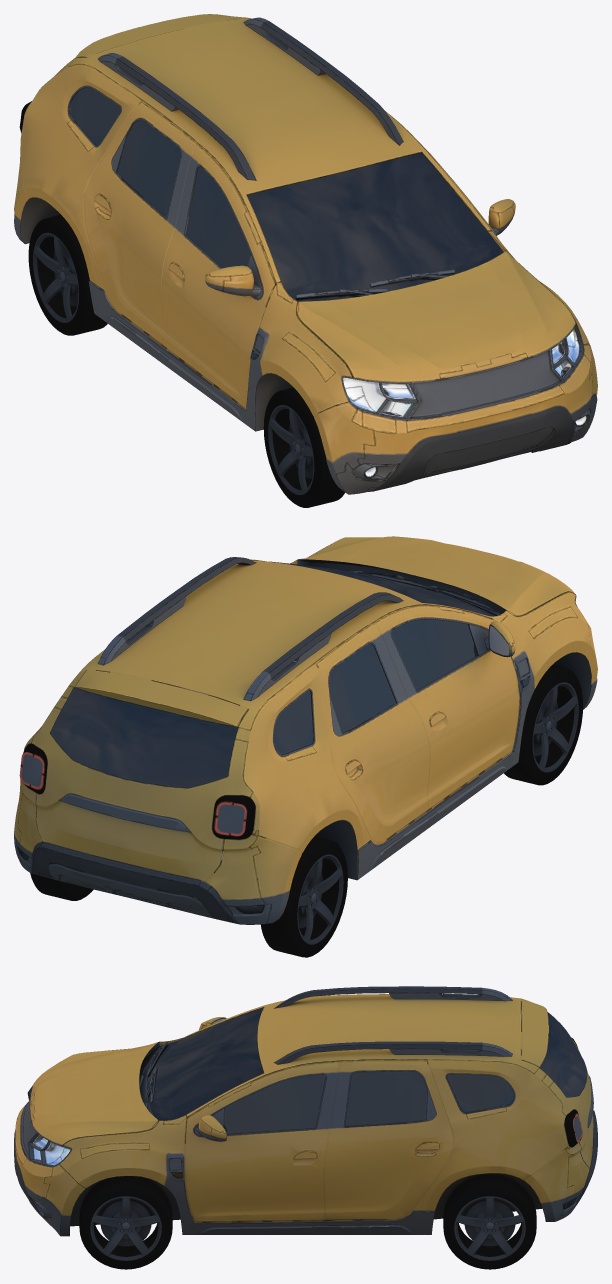
File: car_B_v3_yellow.glb
3 renders of one model, top to bottom at view 1: azimuth 30°, elevation 25°; view 2: azimuth 150°, elevation 25°; view 3: azimuth 270°, elevation 25°, orthographic. The views are drawn at different scales.
Visible parts, largest first — view 1: body, Dacia_Duster_2018_FR_wheel, Dacia_Duster_2018_BR_wheel; view 2: body, Dacia_Duster_2018_BR_wheel, Dacia_Duster_2018_FR_wheel, Dacia_Duster_2018_BL_wheel; view 3: body, Dacia_Duster_2018_BL_wheel, Dacia_Duster_2018_FL_wheel.
Part boxes in pixels (<box>): body: <box>14,14,597,494</box>; Dacia_Duster_2018_FR_wheel: <box>263,387,345,507</box>; Dacia_Duster_2018_BR_wheel: <box>28,214,107,335</box>; body: <box>14,536,597,924</box>; Dacia_Duster_2018_BR_wheel: <box>261,836,347,957</box>; Dacia_Duster_2018_FR_wheel: <box>504,665,582,785</box>; Dacia_Duster_2018_BL_wheel: <box>30,873,93,900</box>; body: <box>14,986,597,1236</box>; Dacia_Duster_2018_BL_wheel: <box>443,1175,536,1269</box>; Dacia_Duster_2018_FL_wheel: <box>79,1176,172,1269</box>.
Size of the model in its own units: 2.03 by 1.68 by 4.32.
2 materials, 2 textured.
